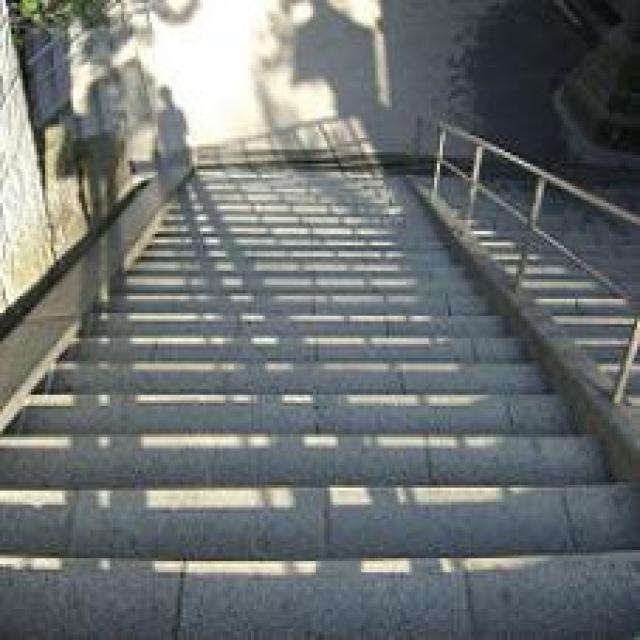downstair: (24, 399, 540, 605)
